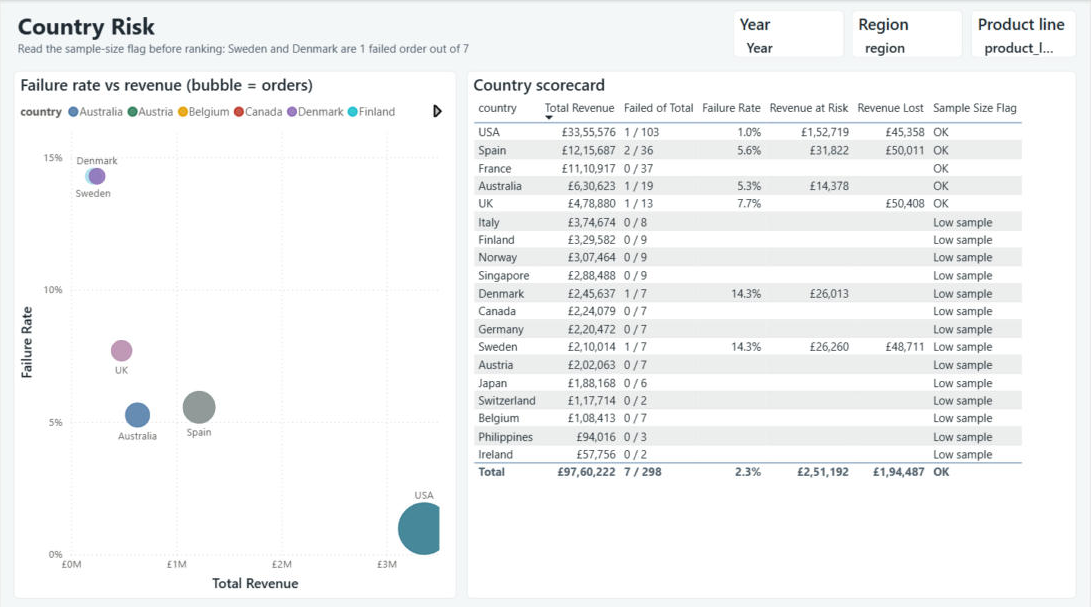

This screenshot's page, from the dashboard's own definition file:
{"tool":"powerbi","page":{"name":"Country Risk","canvas":[1280,720],"ordinal":1},"visuals":[{"type":"slicer","fields":{"Values":["gold_order_ops_fact.country"]},"box":[748.8,79.4,268.4,173.1],"z":0},{"type":"slicer","fields":{"Values":["DimDate.YearMonth"]},"box":[1031.6,79.4,248.2,173.1],"z":1000},{"type":"pivotTable","fields":{"Rows":["gold_order_ops_fact.country"],"Values":["_Measures.Total Orders","_Measures.Total Revenue","_KPI Measures.Shipping Reliability %","_KPI Measures.Failure %","_KPI Measures.Stuck %","_KPI Measures.Revenue at Risk %"]},"box":[624.7,252.5,655,467.5],"z":2000},{"type":"scatterChart","fields":{"Series":["gold_order_ops_fact.country"],"Size":["_Measures.Total Orders"],"X":["_KPI Measures.Failure %"],"Y":["_KPI Measures.Revenue at Risk %"]},"box":[0,79.4,598.7,640.6],"z":3000}]}

Visuals, with their boxes in screenshot pixels (x1, y1, x2, y2), scaled from the page's 1280x720 canvas onto the 1091x607 screenshot:
slicer - gold_order_ops_fact.country: 638,67,867,213
slicer - DimDate.YearMonth: 879,67,1090,213
pivotTable - gold_order_ops_fact.country x _Measures.Total Orders: 532,213,1090,606
scatterChart - gold_order_ops_fact.country x _Measures.Total Orders: 0,67,510,606
